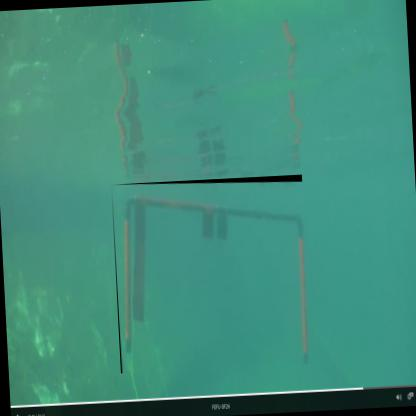gate: (112, 175, 314, 375)
